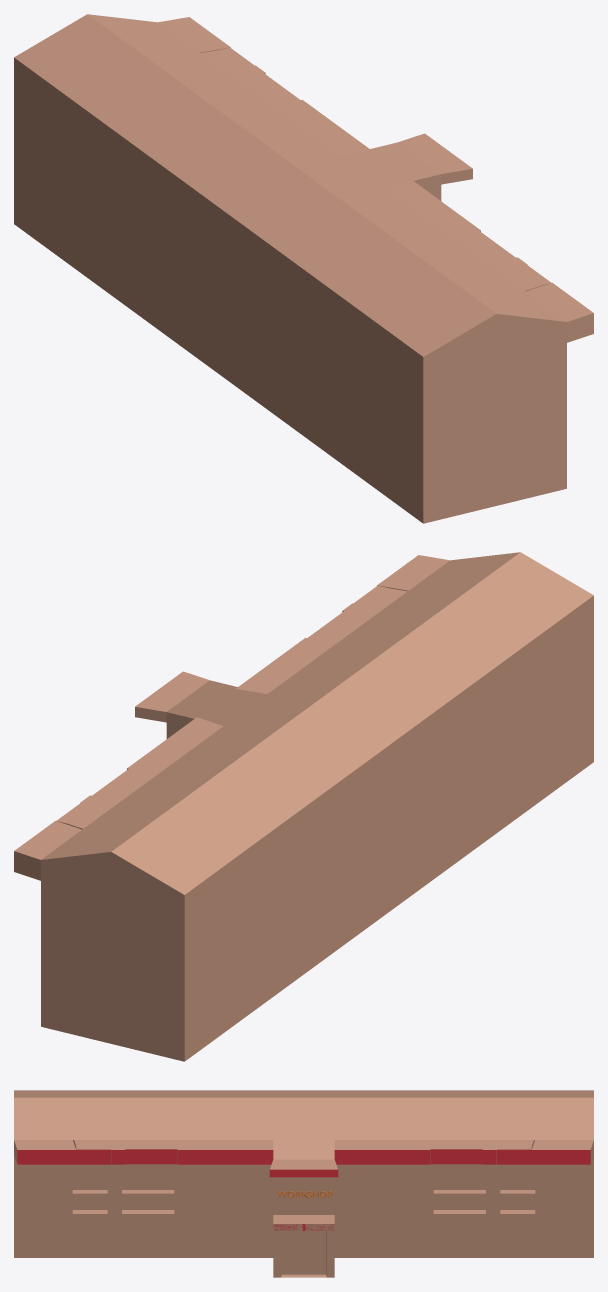
Rendered from Workshop (2).fbx.
3 renders of one model, top to bottom at view 1: azimuth 30°, elevation 25°; view 2: azimuth 150°, elevation 25°; view 3: azimuth 270°, elevation 25°, orthographic. The views are drawn at different scales.
Visible parts, largest first — view 1: Workshop; view 2: Workshop; view 3: Workshop.
Part boxes in pixels (x1,y1,x2,y2): Workshop: (14,14,593,523); Workshop: (14,552,593,1061); Workshop: (14,1090,593,1277).
Size of the model in its own units: 883 by 703 by 2718.
